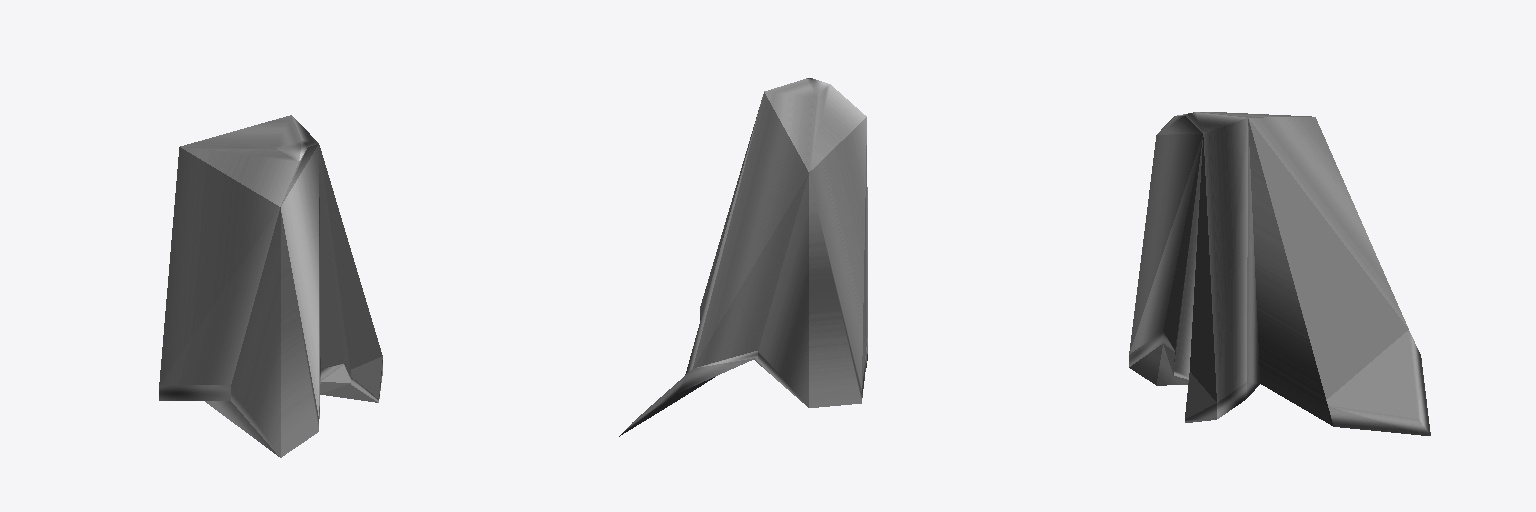
The picture shows the model from 3 angles: view 1: azimuth 30°, elevation 25°; view 2: azimuth 150°, elevation 25°; view 3: azimuth 270°, elevation 25°; orthographic projection.
Visible parts, largest first — view 1: Cube; view 2: Cube; view 3: Cube.
Boxes of the visible parts, x1=… form: Cube: x1=159, y1=115, x2=382, y2=457; Cube: x1=619, y1=78, x2=867, y2=436; Cube: x1=1129, y1=112, x2=1430, y2=435.
Size of the model in its own units: 22442 by 33278 by 30785.
Materials: 1 (1 with a texture image).